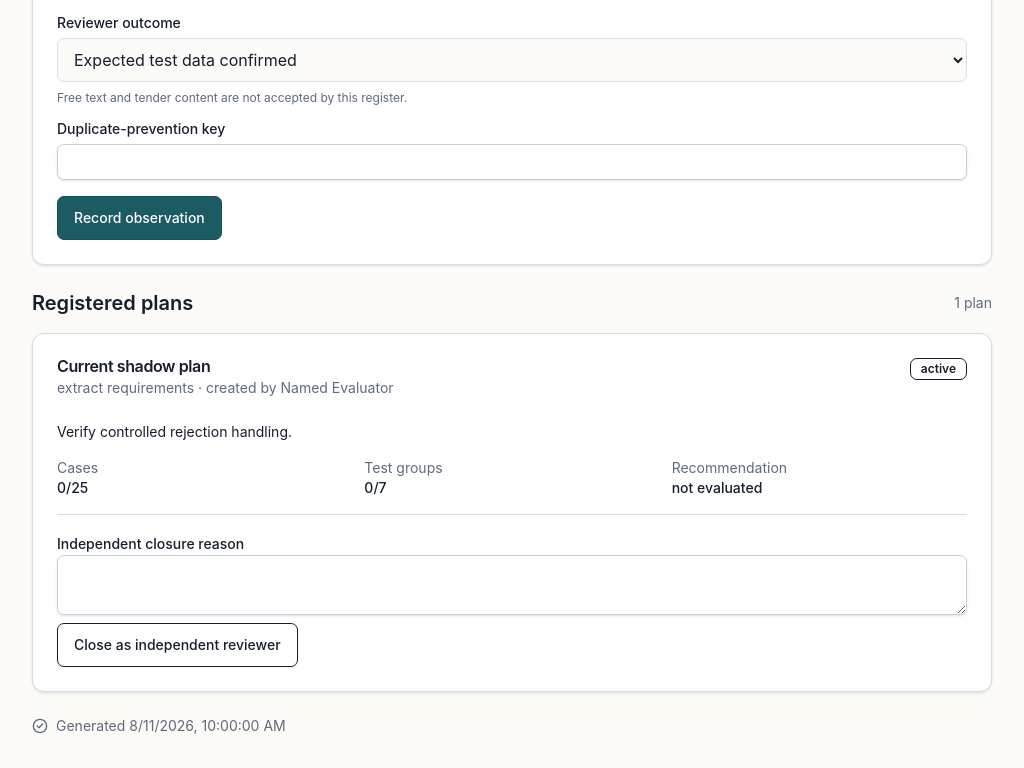
it: AiShadowProgrammeConsole mutation failures › keeps the closure reason and reports a rejected closure
(page scrolled)
Type "Independent review is incomplete." into the text box labelled "Independent closure reason" at (512, 585), box top-left (57, 555), bottom-right (967, 615)
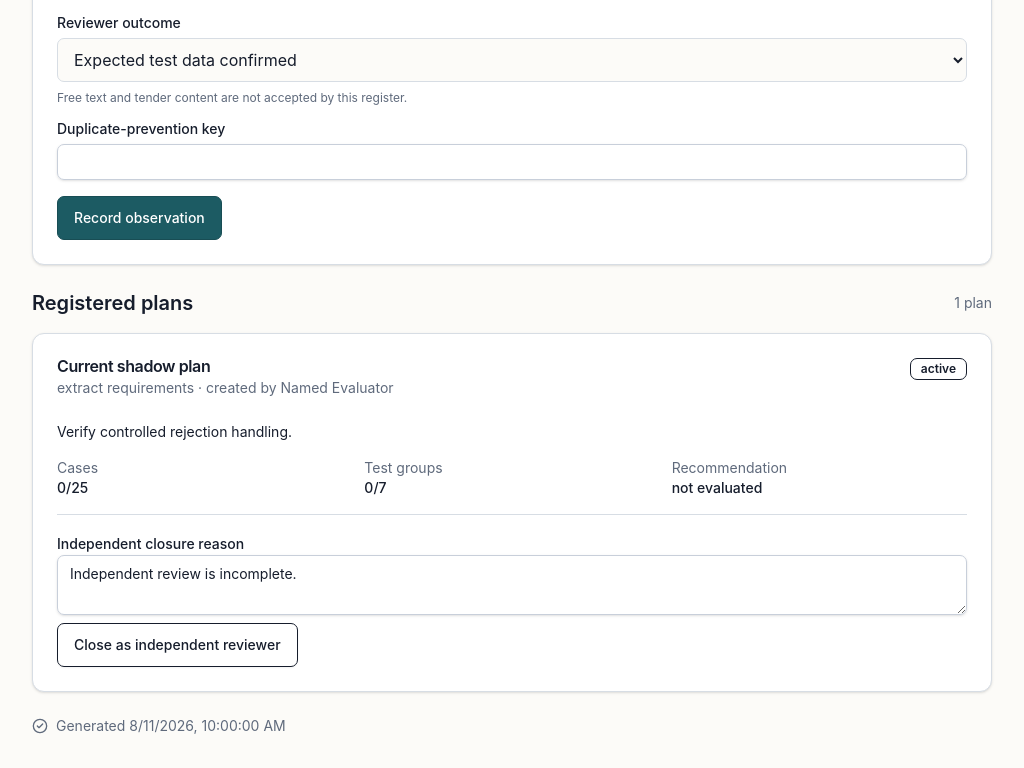
Submit the form "Close as independent reviewer", box top-left (57, 514), bottom-right (967, 667)
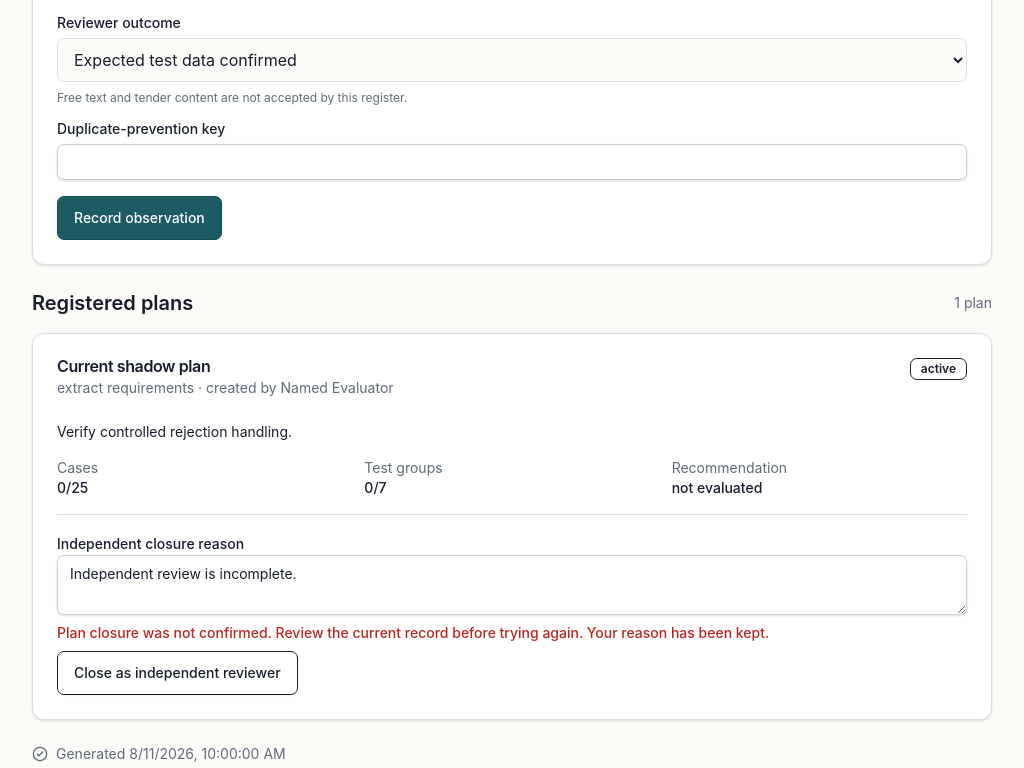
Expected: the text "Plan closure was not confirmed" is shown, top-left (57, 624), bottom-right (769, 641)
